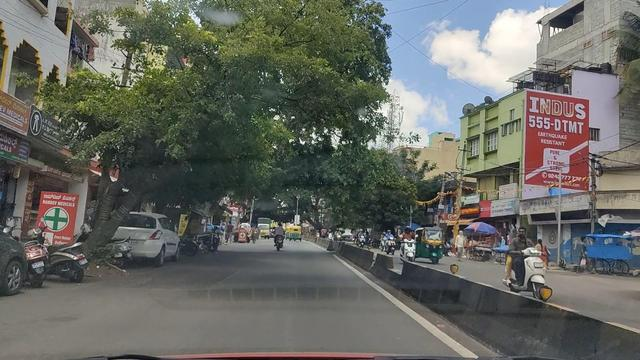RoadDamages: (25, 289, 84, 349)
